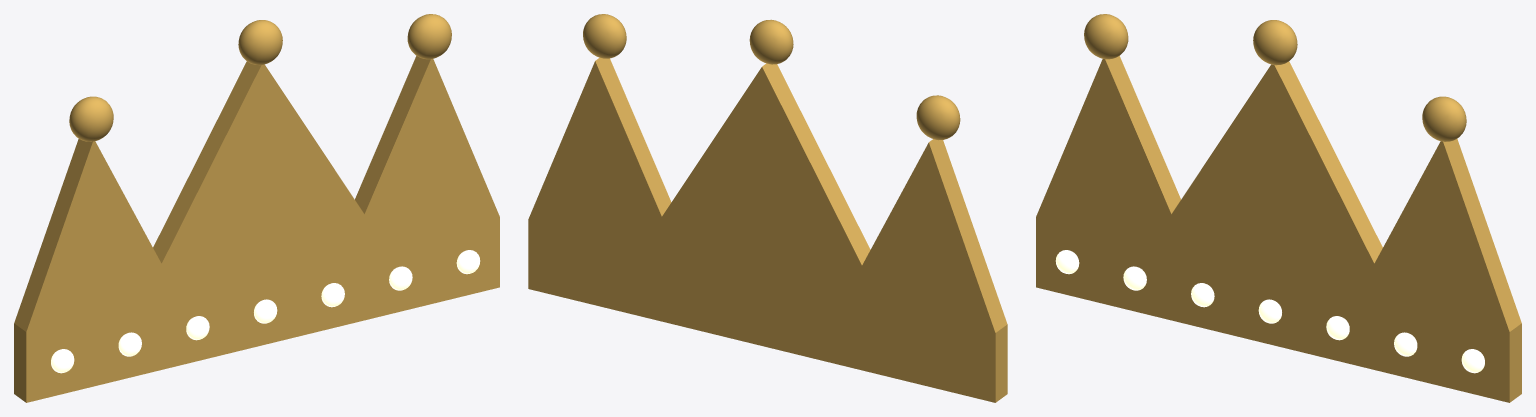
The model's file is deco_corona_pared.glb.
The picture shows the model from 3 angles, left to right: view 1: azimuth 30°, elevation 25°; view 2: azimuth 150°, elevation 25°; view 3: azimuth 330°, elevation 25°; orthographic projection.
Visible parts, largest first — view 1: corona pared.001, bola corona 2.001, bola corona 0.001, bola corona 1.001, bombillo corona 5.001, bombillo corona 1.001, bombillo corona 4.001, bombillo corona 0.001, bombillo corona 2.001, bombillo corona 3.001, bombillo corona 6.001; view 2: corona pared.001, bola corona 1.001, bola corona 2.001, bola corona 0.001; view 3: corona pared.001, bola corona 0.001, bola corona 2.001, bola corona 1.001, bombillo corona 1.001, bombillo corona 5.001, bombillo corona 2.001, bombillo corona 3.001, bombillo corona 4.001, bombillo corona 6.001, bombillo corona 0.001.
Boxes of the visible parts, bbox=[...] form: corona pared.001: bbox=[14, 56, 499, 402]; bola corona 2.001: bbox=[69, 96, 113, 141]; bola corona 0.001: bbox=[407, 14, 451, 59]; bola corona 1.001: bbox=[238, 20, 282, 65]; bombillo corona 5.001: bbox=[389, 266, 412, 290]; bombillo corona 1.001: bbox=[118, 332, 141, 356]; bombillo corona 4.001: bbox=[321, 283, 344, 307]; bombillo corona 0.001: bbox=[51, 349, 74, 373]; bombillo corona 2.001: bbox=[186, 316, 209, 340]; bombillo corona 3.001: bbox=[254, 299, 277, 323]; bombillo corona 6.001: bbox=[456, 250, 480, 274]; corona pared.001: bbox=[528, 57, 1007, 402]; bola corona 1.001: bbox=[749, 19, 793, 64]; bola corona 2.001: bbox=[916, 95, 960, 140]; bola corona 0.001: bbox=[583, 14, 626, 58]; corona pared.001: bbox=[1036, 56, 1521, 402]; bola corona 0.001: bbox=[1422, 96, 1466, 141]; bola corona 2.001: bbox=[1084, 14, 1128, 59]; bola corona 1.001: bbox=[1253, 20, 1297, 65]; bombillo corona 1.001: bbox=[1123, 266, 1146, 290]; bombillo corona 5.001: bbox=[1394, 332, 1417, 356]; bombillo corona 2.001: bbox=[1191, 283, 1214, 307]; bombillo corona 3.001: bbox=[1258, 299, 1281, 323]; bombillo corona 4.001: bbox=[1326, 316, 1349, 340]; bombillo corona 6.001: bbox=[1461, 349, 1484, 373]; bombillo corona 0.001: bbox=[1055, 250, 1079, 274].
Size of the model in its own units: 0.56 by 0.364 by 0.0393.
